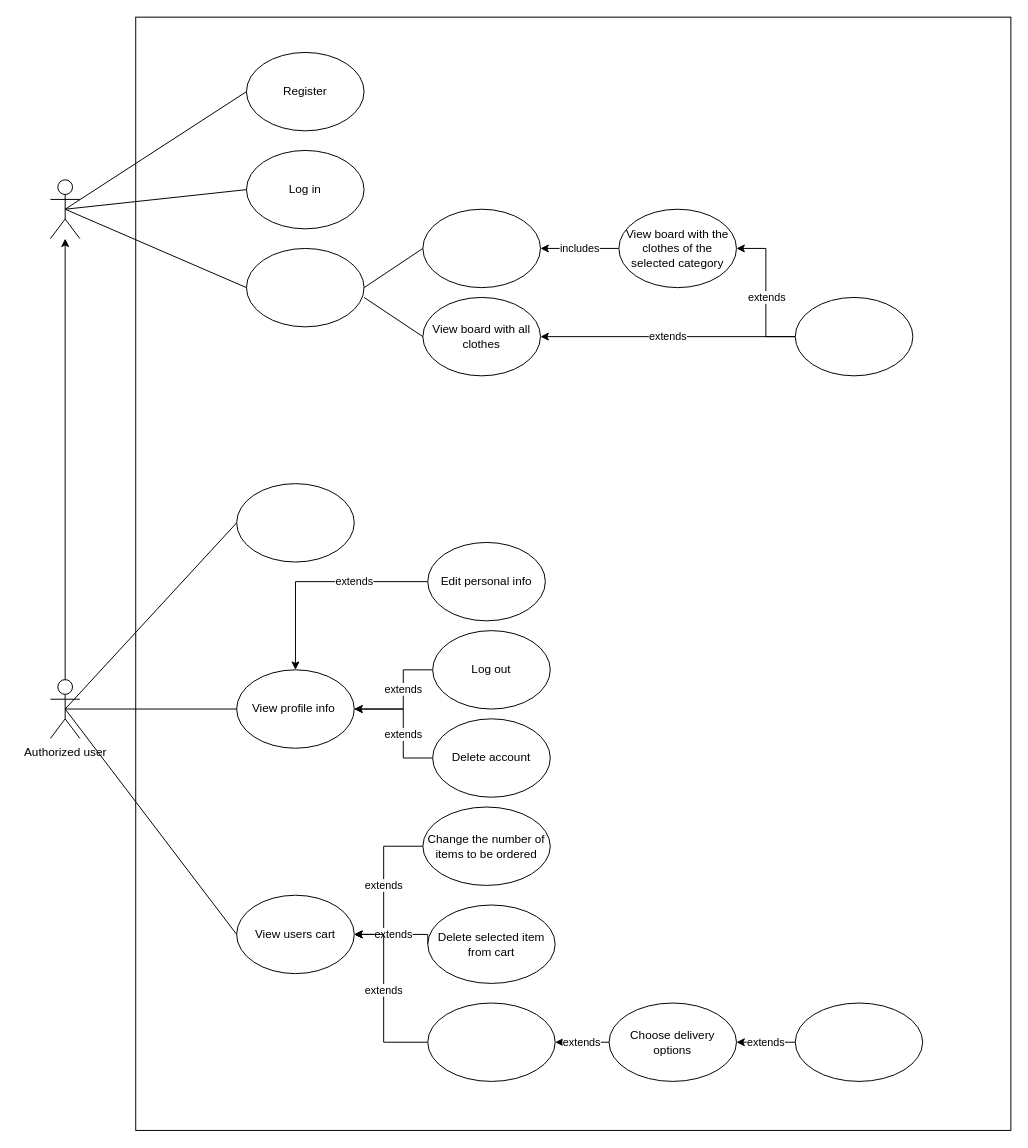
The diagram is 1028 pixels wide and 1148 high, and some of its shapes have lost their labels. Each missing label, with the centre of its shape:
Add selected item to cart: point 295,522
Checkout users cart: point 491,1041
Complete transaction: point 858,1041
Unauthorized user: point 64,209
View detailed info about chosen item: point 853,336
View home page: point 304,287
Сhoose a clothing category: point 481,248
